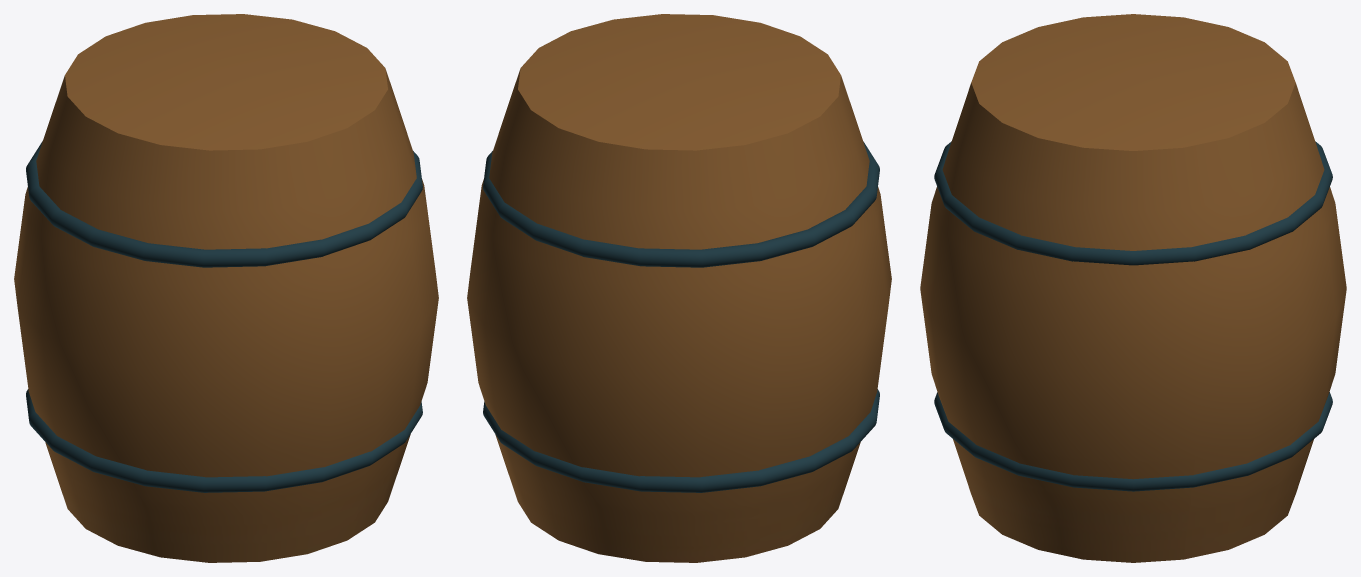
The model's file is barrel.fbx.
The picture shows the model from 3 angles, left to right: view 1: azimuth 30°, elevation 25°; view 2: azimuth 150°, elevation 25°; view 3: azimuth 270°, elevation 25°; orthographic projection.
Visible parts, largest first — view 1: polySurface127, polySurface126; view 2: polySurface127, polySurface126; view 3: polySurface127, polySurface126.
Part boxes in pixels (<box>): polySurface127: <box>14,14,438,562</box>; polySurface126: <box>26,141,422,492</box>; polySurface127: <box>467,14,891,562</box>; polySurface126: <box>483,141,879,492</box>; polySurface127: <box>920,14,1346,562</box>; polySurface126: <box>934,141,1332,491</box>.
Size of the model in its own units: 0.1356 by 0.1532 by 0.1356.
